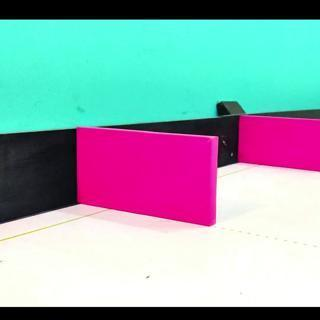xparking: (84, 141, 211, 224), (246, 123, 314, 172)
